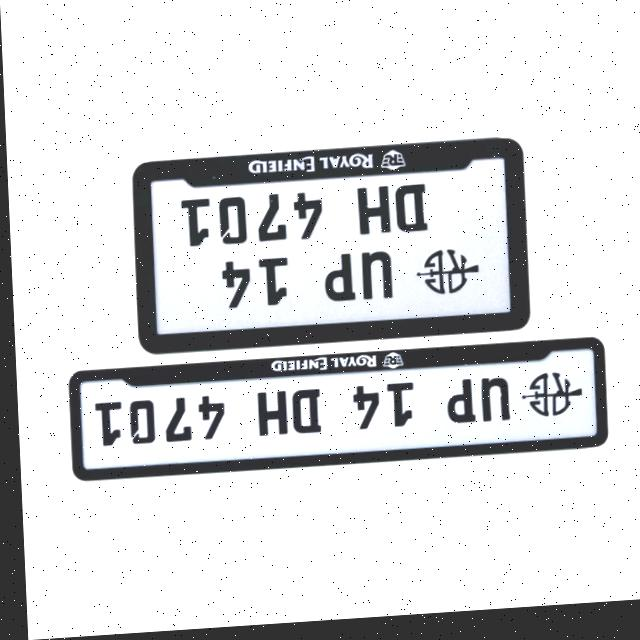plate: (128, 142, 527, 358), (63, 347, 605, 484)
